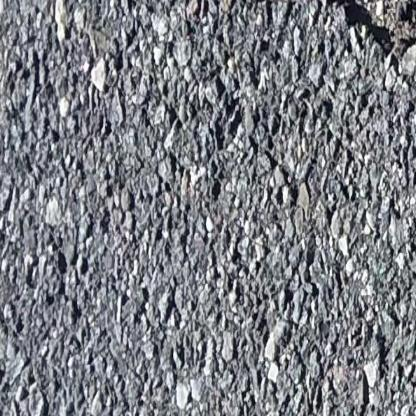Cracks: (212, 0, 416, 75)
